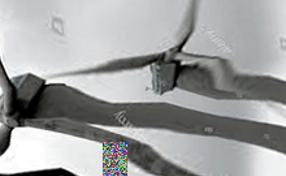faulty: (115, 42, 241, 103)
